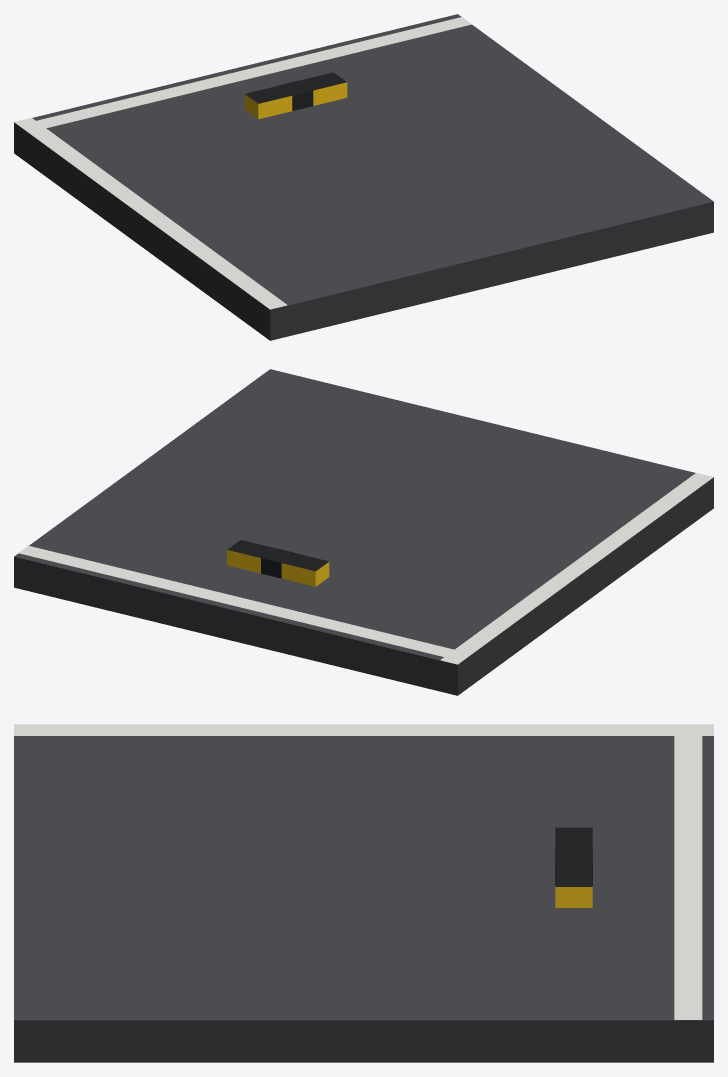
File: SC_Gnd_Parking_Lines_End_3x3.gltf
The picture shows the model from 3 angles, top to bottom: view 1: azimuth 30°, elevation 25°; view 2: azimuth 150°, elevation 25°; view 3: azimuth 270°, elevation 25°; orthographic projection. The views are drawn at different scales.
Parts seen in each view (by area): view 1: SC_Gnd_Parking_Lines_End_3x3; view 2: SC_Gnd_Parking_Lines_End_3x3; view 3: SC_Gnd_Parking_Lines_End_3x3.
Part boxes in pixels (x1,y1,x2,y2): SC_Gnd_Parking_Lines_End_3x3: (14, 14, 713, 340); SC_Gnd_Parking_Lines_End_3x3: (14, 369, 713, 695); SC_Gnd_Parking_Lines_End_3x3: (14, 724, 713, 1062).
Size of the model in its own units: 3 by 0.301 by 3.
1 material, 1 textured.
